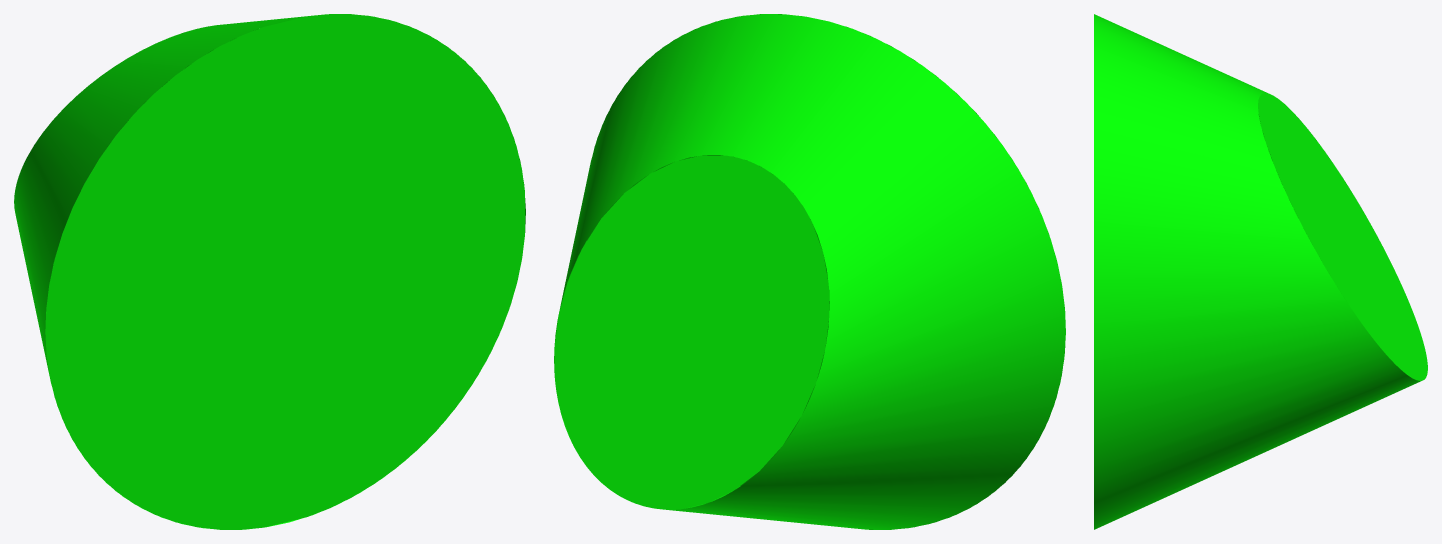
3 renders of one model, left to right at view 1: azimuth 30°, elevation 25°; view 2: azimuth 150°, elevation 25°; view 3: azimuth 270°, elevation 25°, orthographic. The views are drawn at different scales.
Parts seen in each view (by area): view 1: TRM_SRF (×3); view 2: TRM_SRF (×3); view 3: TRM_SRF (×3).
Part boxes in pixels (left/top/right/bottom): TRM_SRF (×3): left=14, top=14, right=525, bottom=529; TRM_SRF (×3): left=554, top=14, right=1065, bottom=529; TRM_SRF (×3): left=1094, top=14, right=1427, bottom=529.
Bounding box in the file's own units: 39.37 × 39.37 × 25.47.
